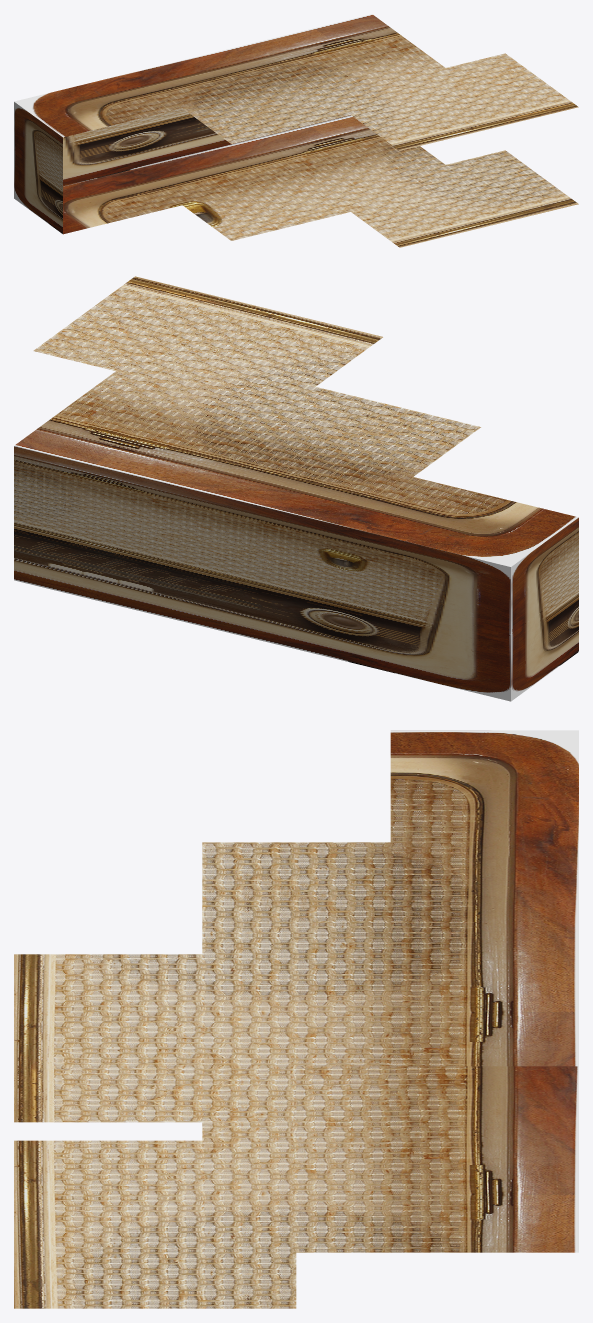
File: Radio_01.FBX
3 renders of one model, top to bottom at view 1: azimuth 30°, elevation 25°; view 2: azimuth 150°, elevation 25°; view 3: azimuth 270°, elevation 25°, orthographic. The views are drawn at different scales.
Visible parts, largest first — view 1: Object002; view 2: Object002; view 3: Object002.
Boxes of the visible parts, x1,y1,x2,y2 form: Object002: (14, 14, 578, 247); Object002: (14, 276, 578, 701); Object002: (14, 730, 578, 1308).
Size of the model in its own units: 101 by 22.36 by 61.48.
